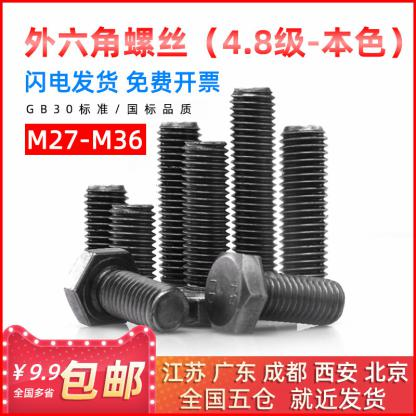FOD: (205, 250, 349, 336), (62, 242, 190, 332)
